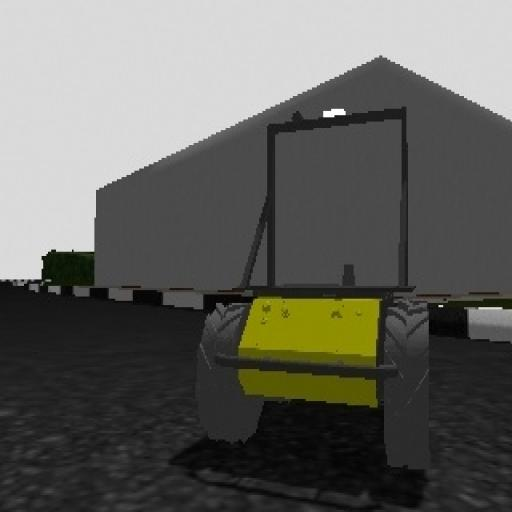huskya200: (190, 94, 454, 494)
